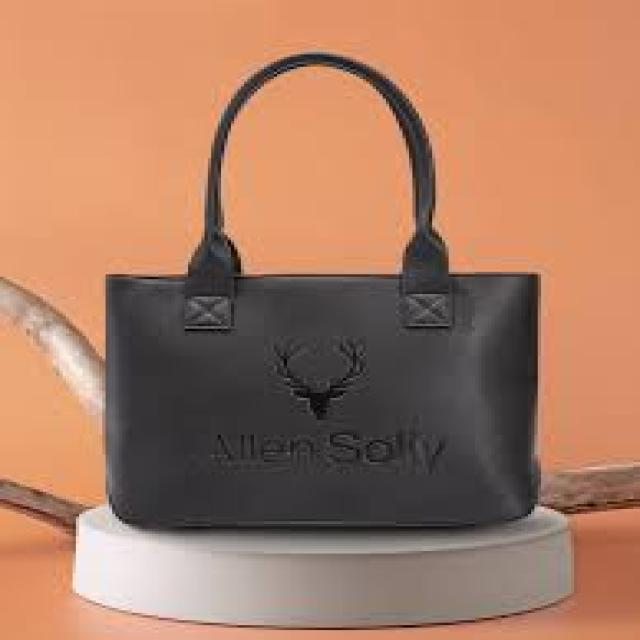handbag: (99, 49, 541, 529)
